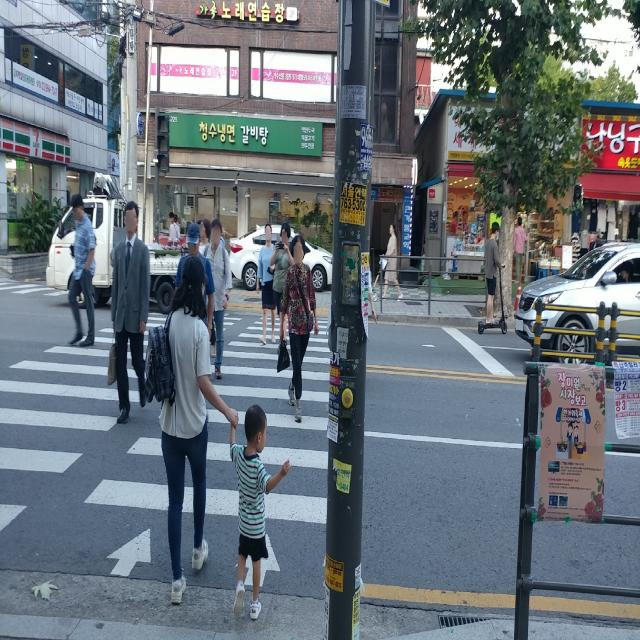횡단보도: (0, 307, 331, 589)
